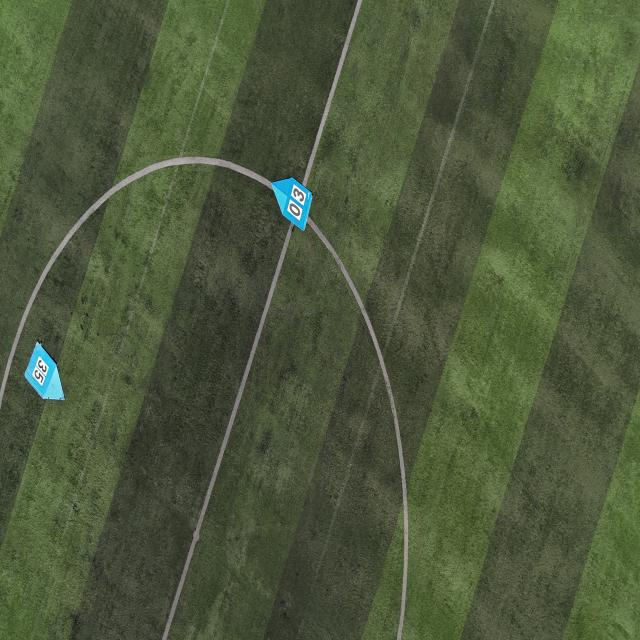board: (24, 340, 67, 402), (269, 177, 313, 232)
